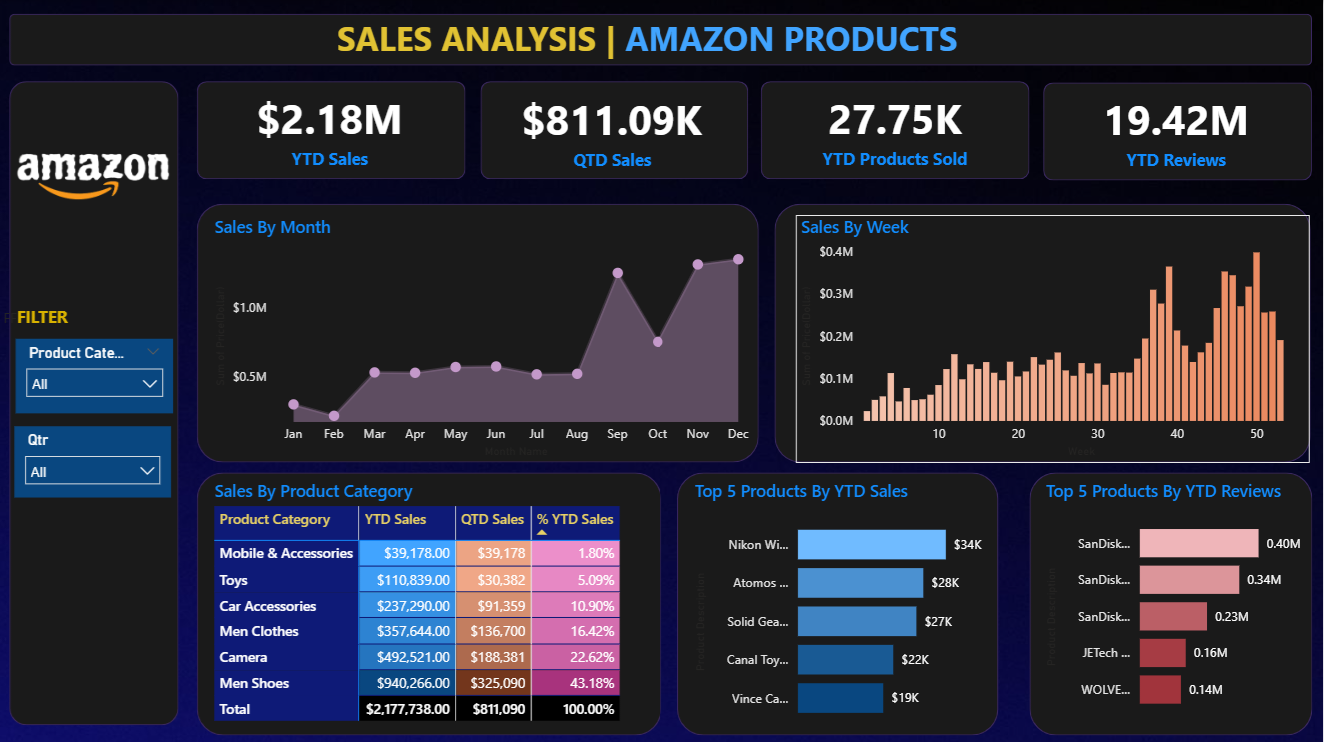

What the dashboard file says about the page in this screenshot:
{"tool":"powerbi","page":{"name":"Page 1","canvas":[1280,720],"ordinal":0},"visuals":[{"type":"card","fields":{"Values":["Amazon_Data.YTD Sales"]},"box":[190.7,76.8,259.3,94.7],"z":0,"group":"g2"},{"type":"shape","box":[11,78.2,163.3,621.6],"z":0},{"type":"shape","box":[11,13.7,1258.3,50],"z":1000},{"type":"card","fields":{"Values":["Amazon_Data.QTD Sales"]},"box":[463.8,78.2,259.3,94.7],"z":1000,"group":"g2"},{"type":"shape","box":[192.1,78.2,259.3,94.7],"z":1750,"group":"g1"},{"type":"textbox","box":[322.5,9.6,616.1,57.6],"z":2000},{"type":"card","fields":{"Values":["Amazon_Data.YTD Products Sold"]},"box":[736.8,76.8,259.3,94.7],"z":2000,"group":"g2"},{"type":"shape","box":[465.4,78.2,259.3,94.7],"z":3000,"group":"g1"},{"type":"card","fields":{"Values":["Amazon_Data.YTD Reviews"]},"box":[1008.5,78.2,259.3,94.7],"z":3000,"group":"g2"},{"type":"card","fields":{"Values":["Amazon_Data.YTD Sales"]},"box":[192.1,89.2,259.3,94.7],"z":3000},{"type":"group","id":"g1","title":"Group 2","box":[192.1,78.2,1077.2,96.1],"z":4000},{"type":"group","id":"g2","title":"Group 1","box":[190.7,76.8,1077.2,96.1],"z":5000},{"type":"shape","box":[737.7,78.2,259.3,94.7],"z":6000,"group":"g1"},{"type":"shape","box":[192.1,196.2,543.4,249.7],"z":6000},{"type":"shape","box":[1009.9,79.6,259.3,94.7],"z":7000,"group":"g1"},{"type":"areaChart","title":"Sales By Month","fields":{"Category":["Date Table.Month Name"],"Y":["Sum(Amazon_Data.Price(Dollar))"]},"box":[204.5,207.2,532.4,238.8],"z":7000},{"type":"shape","box":[750.6,196.2,517.3,249.7],"z":8000},{"type":"columnChart","title":"Sales By Week","fields":{"Category":["Date Table.Week"],"Y":["Sum(Amazon_Data.Price(Dollar))"]},"box":[771.2,207.2,495.4,238.8],"z":9000},{"type":"shape","box":[192.1,455.6,448.7,253.9],"z":10000},{"type":"pivotTable","title":"Sales By Product Category","fields":{"Rows":["Amazon_Data.Product Category"],"Values":["Amazon_Data.YTD Sales1","Amazon_Data.QTD Sales","Amazon_Data.YTD Sales"]},"box":[204.5,462.4,433.6,247],"z":11000},{"type":"shape","box":[655.9,455.6,310.1,253.9],"z":12000},{"type":"slicer","fields":{"Values":["Amazon_Data.Product Category"]},"box":[16.9,326.9,152,72.4],"z":13000},{"type":"shape","box":[996.2,455.6,273.1,253.9],"z":14000},{"type":"clusteredBarChart","title":"Top 5 Products By YTD Sales","fields":{"Category":["Amazon_Data.Product Description"],"Y":["Amazon_Data.YTD Sales"]},"box":[668.3,462.4,297.8,247],"z":15000},{"type":"clusteredBarChart","title":"Top 5 Products By YTD Reviews","fields":{"Category":["Amazon_Data.Product Description"],"Y":["Amazon_Data.YTD Reviews"]},"box":[1007.2,462.4,259.3,237.4],"z":16000},{"type":"image","box":[8.2,89.2,166,157.8],"z":17000},{"type":"slicer","fields":{"Values":["Date Table.Qtr"]},"box":[15.7,411.4,150.8,68.8],"z":18000},{"type":"textbox","box":[0,289.5,83.2,37.4],"z":18001}]}

Visuals, with their boxes in screenshot pixels (x1, y1, x2, y2), scaled from the page's 1280x720 canvas onto the 1324x742 screenshot:
card - Amazon_Data.YTD Sales: {"x1": 197, "y1": 79, "x2": 465, "y2": 177}
shape: {"x1": 11, "y1": 81, "x2": 180, "y2": 721}
shape: {"x1": 11, "y1": 14, "x2": 1313, "y2": 66}
card - Amazon_Data.QTD Sales: {"x1": 480, "y1": 81, "x2": 748, "y2": 178}
shape: {"x1": 199, "y1": 81, "x2": 467, "y2": 178}
textbox: {"x1": 334, "y1": 10, "x2": 971, "y2": 69}
card - Amazon_Data.YTD Products Sold: {"x1": 762, "y1": 79, "x2": 1030, "y2": 177}
shape: {"x1": 481, "y1": 81, "x2": 750, "y2": 178}
card - Amazon_Data.YTD Reviews: {"x1": 1043, "y1": 81, "x2": 1311, "y2": 178}
card - Amazon_Data.YTD Sales: {"x1": 199, "y1": 92, "x2": 467, "y2": 190}
"Group 2" group: {"x1": 199, "y1": 81, "x2": 1313, "y2": 180}
"Group 1" group: {"x1": 197, "y1": 79, "x2": 1311, "y2": 178}
shape: {"x1": 763, "y1": 81, "x2": 1031, "y2": 178}
shape: {"x1": 199, "y1": 202, "x2": 761, "y2": 460}
shape: {"x1": 1045, "y1": 82, "x2": 1313, "y2": 180}
"Sales By Month" areaChart: {"x1": 212, "y1": 214, "x2": 762, "y2": 460}
shape: {"x1": 776, "y1": 202, "x2": 1311, "y2": 460}
"Sales By Week" columnChart: {"x1": 798, "y1": 214, "x2": 1310, "y2": 460}
shape: {"x1": 199, "y1": 470, "x2": 663, "y2": 731}
"Sales By Product Category" pivotTable: {"x1": 212, "y1": 477, "x2": 660, "y2": 731}
shape: {"x1": 678, "y1": 470, "x2": 999, "y2": 731}
slicer - Amazon_Data.Product Category: {"x1": 17, "y1": 337, "x2": 175, "y2": 412}
shape: {"x1": 1030, "y1": 470, "x2": 1313, "y2": 731}
"Top 5 Products By YTD Sales" clusteredBarChart: {"x1": 691, "y1": 477, "x2": 999, "y2": 731}
"Top 5 Products By YTD Reviews" clusteredBarChart: {"x1": 1042, "y1": 477, "x2": 1310, "y2": 721}
image: {"x1": 8, "y1": 92, "x2": 180, "y2": 255}
slicer - Date Table.Qtr: {"x1": 16, "y1": 424, "x2": 172, "y2": 495}
textbox: {"x1": 0, "y1": 298, "x2": 86, "y2": 337}
